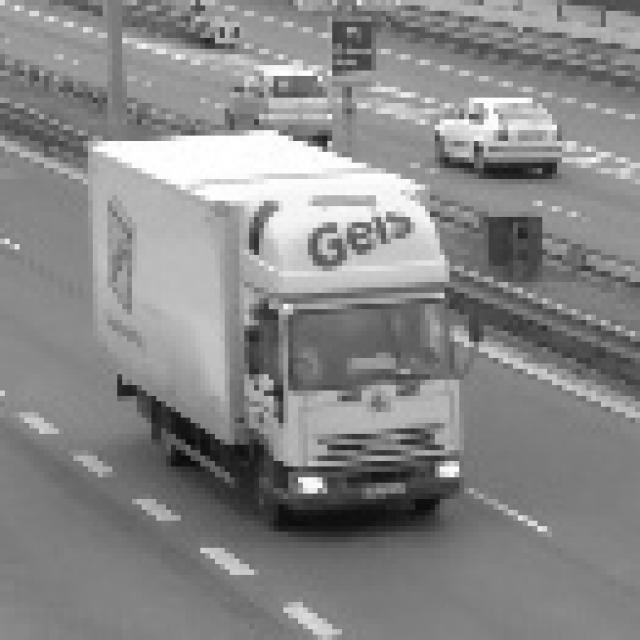truck: (217, 179, 494, 547)
